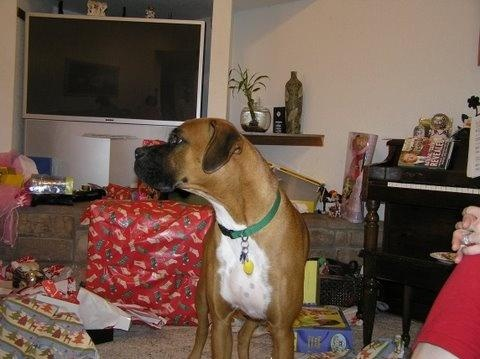dog: (135, 118, 311, 359)
pottedplant: (230, 66, 272, 132)
tvmonitor: (26, 12, 206, 128)
